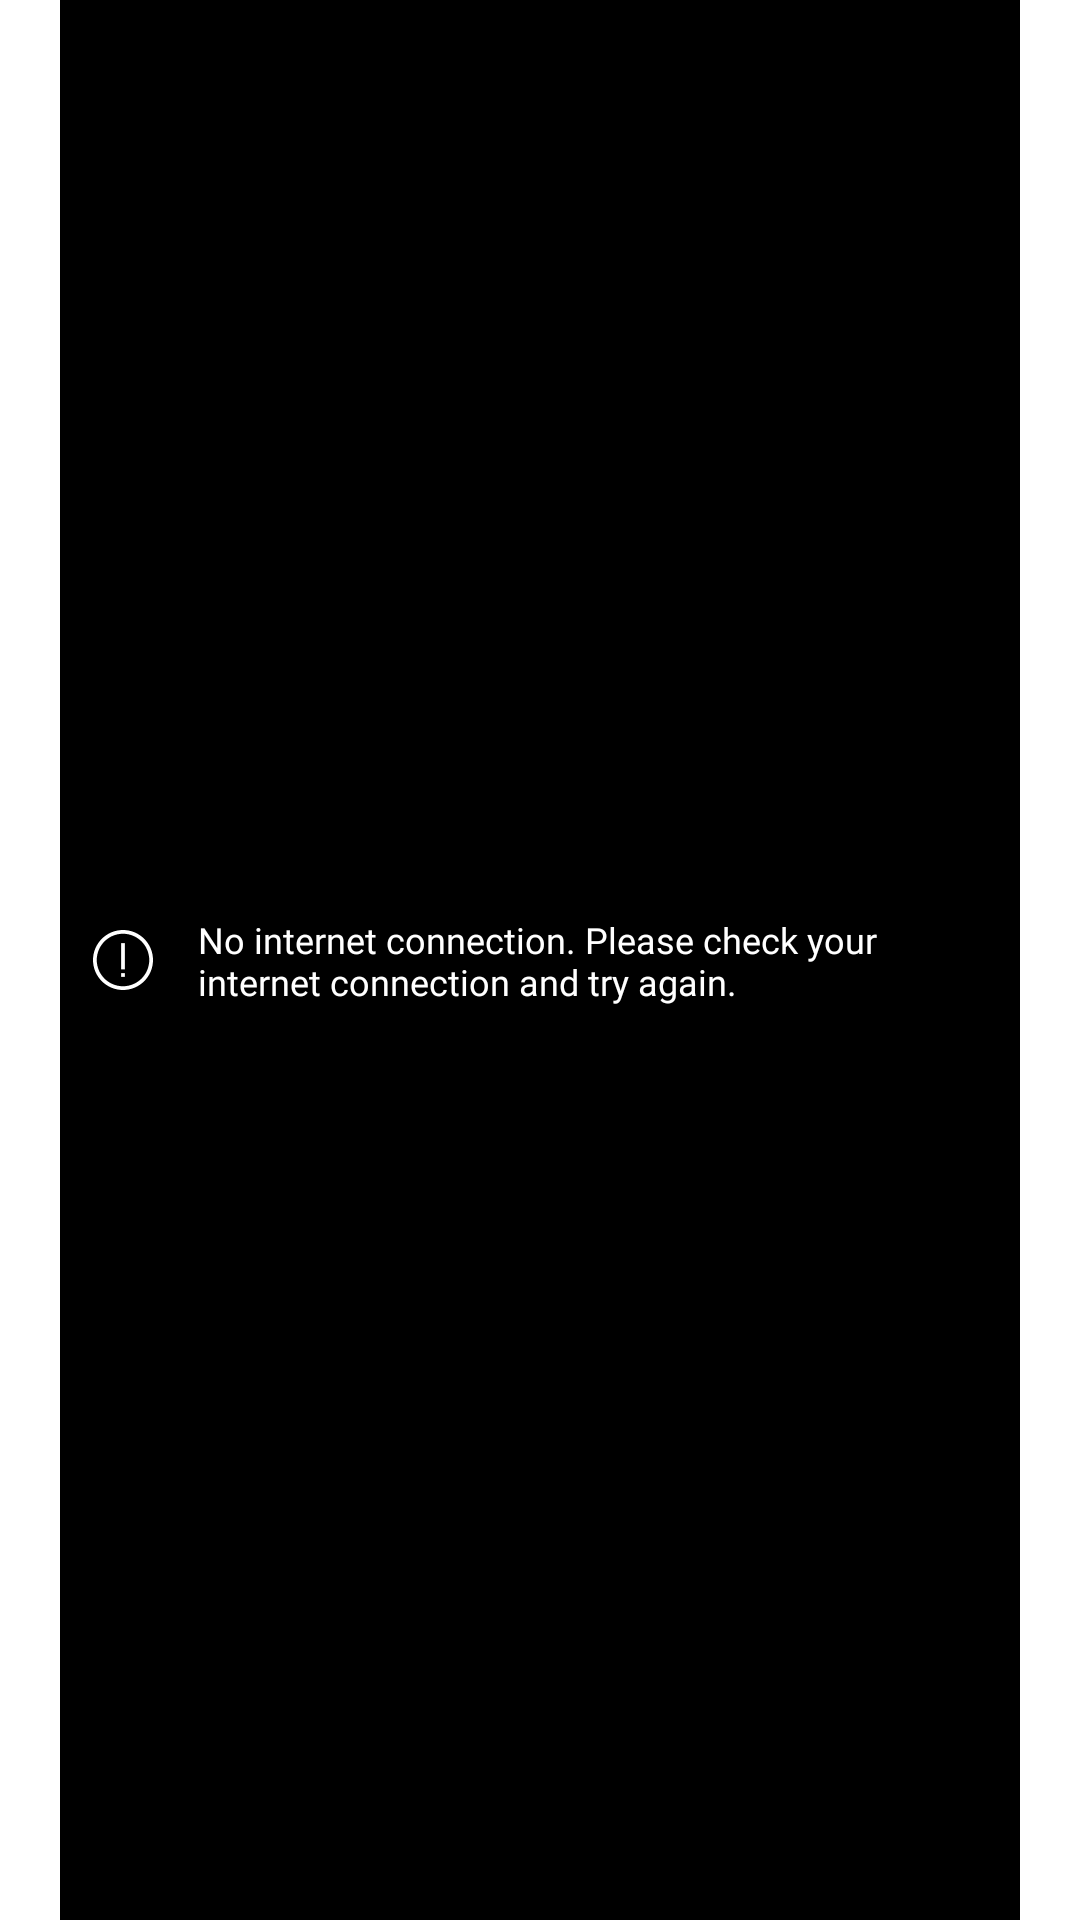

Named icons in this screenshot (1080px x 1920px) and their bounding boxes, (x1, y1, x2, y2):
attention: (93, 930, 153, 990)
